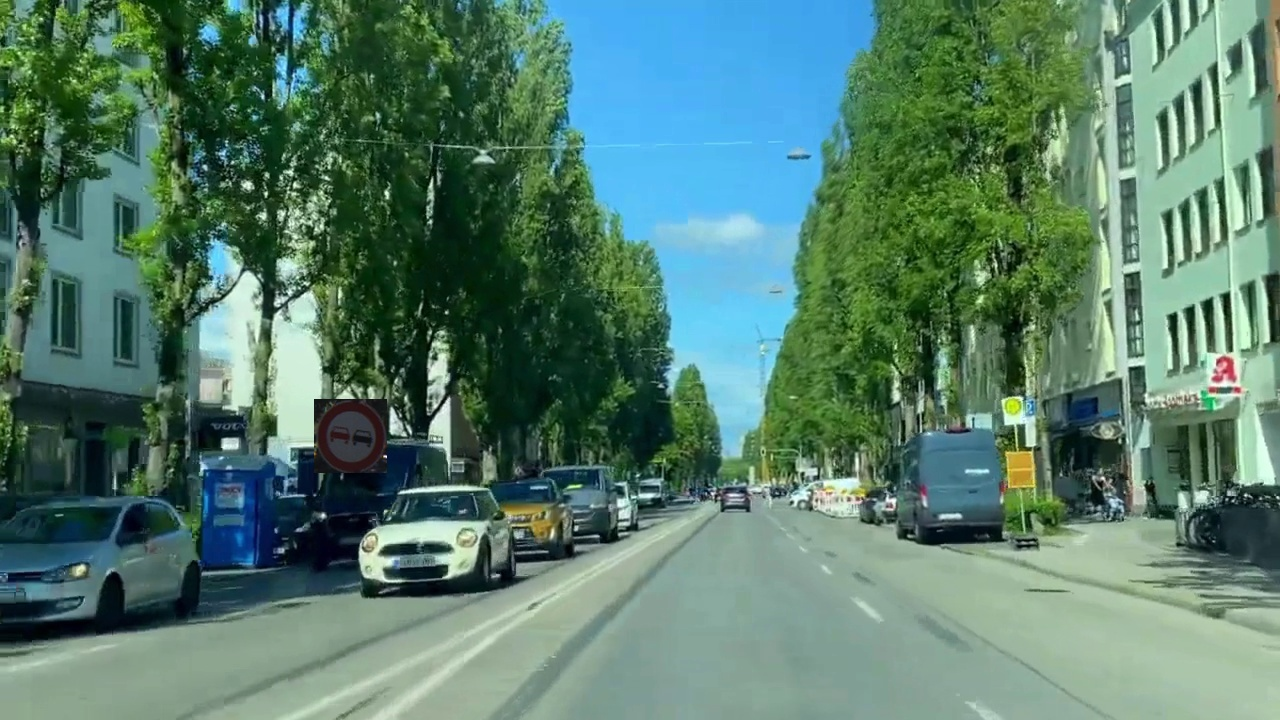No passing: (314, 399, 387, 473)
